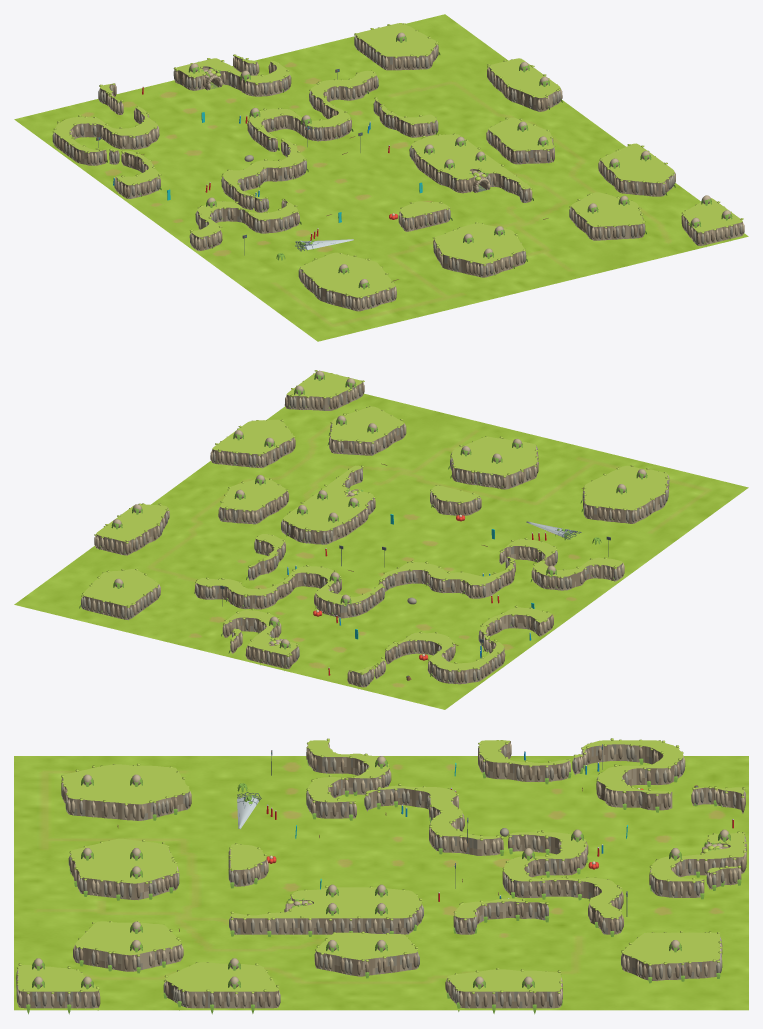
Rendered from terrain-props.glb.
3 renders of one model, top to bottom at view 1: azimuth 30°, elevation 25°; view 2: azimuth 150°, elevation 25°; view 3: azimuth 270°, elevation 25°, orthographic. The views are drawn at different scales.
Parts seen in each view (by area): view 1: hm04_ground_nominal_exact_zero, hm04-fixed-chunk-3-3, hm04-fixed-chunk-4-0, hm04-fixed-chunk-2-0, hm04-fixed-chunk-2-1, hm04-fixed-chunk-0-1, hm04-fixed-chunk-2-4, hm04-fixed-chunk-3-1, hm04-fixed-chunk-1-2, hm04-fixed-chunk-3-2, hm04-fixed-chunk-4-4, hm04-fixed-chunk-0-4 (+18 smaller); view 2: hm04_ground_nominal_exact_zero, hm04-fixed-chunk-2-4, hm04-fixed-chunk-4-0, hm04-fixed-chunk-4-4, hm04-fixed-chunk-3-2, hm04-fixed-chunk-0-4, hm04-fixed-chunk-2-1, hm04-fixed-chunk-3-1, hm04-fixed-chunk-2-0, hm04-fixed-chunk-1-2, hm04-fixed-chunk-0-1, hm04-fixed-chunk-0-0 (+16 smaller); view 3: hm04_ground_nominal_exact_zero, hm04-fixed-chunk-3-3, hm04-fixed-chunk-3-1, hm04-fixed-chunk-4-0, hm04-fixed-chunk-2-1, hm04-fixed-chunk-3-2, hm04-fixed-chunk-4-4, hm04-fixed-chunk-0-1, hm04-fixed-chunk-1-4, hm04-fixed-chunk-2-0, hm04-fixed-chunk-5-5, hm04-fixed-chunk-2-4 (+21 smaller).
Boxes of the visible parts, x1,y1,x2,y2 form: hm04_ground_nominal_exact_zero: (14, 14, 748, 341); hm04-fixed-chunk-3-3: (419, 149, 533, 202); hm04-fixed-chunk-4-0: (354, 23, 438, 70); hm04-fixed-chunk-2-0: (173, 54, 289, 96); hm04-fixed-chunk-2-1: (239, 107, 350, 157); hm04-fixed-chunk-0-1: (70, 122, 159, 197); hm04-fixed-chunk-2-4: (433, 222, 521, 272); hm04-fixed-chunk-3-1: (309, 70, 398, 138); hm04-fixed-chunk-1-2: (221, 155, 304, 212); hm04-fixed-chunk-3-2: (388, 114, 480, 175); hm04-fixed-chunk-4-4: (569, 170, 643, 240); hm04-fixed-chunk-0-4: (298, 255, 385, 304); hm04_ground_nominal_exact_zero: (14, 393, 748, 709); hm04-fixed-chunk-2-4: (452, 440, 538, 489); hm04-fixed-chunk-4-0: (79, 569, 160, 620); hm04-fixed-chunk-4-4: (279, 409, 406, 458); hm04-fixed-chunk-3-2: (254, 502, 356, 561); hm04-fixed-chunk-0-4: (588, 474, 668, 523); hm04-fixed-chunk-2-1: (298, 566, 388, 625); hm04-fixed-chunk-3-1: (194, 549, 313, 609); hm04-fixed-chunk-2-0: (228, 610, 299, 668); hm04-fixed-chunk-1-2: (404, 556, 515, 598); hm04-fixed-chunk-0-1: (410, 606, 551, 669); hm04-fixed-chunk-0-0: (406, 635, 497, 684); hm04_ground_nominal_exact_zero: (14, 756, 748, 1010); hm04-fixed-chunk-3-3: (229, 879, 358, 936); hm04-fixed-chunk-3-1: (486, 871, 618, 934); hm04-fixed-chunk-4-0: (621, 931, 722, 981); hm04-fixed-chunk-2-1: (485, 829, 603, 890); hm04-fixed-chunk-3-2: (355, 884, 489, 934); hm04-fixed-chunk-4-4: (95, 921, 208, 973); hm04-fixed-chunk-0-1: (485, 738, 620, 800); hm04-fixed-chunk-1-4: (94, 765, 191, 827); hm04-fixed-chunk-2-0: (649, 829, 746, 891); hm04-fixed-chunk-5-5: (16, 958, 95, 1014); hm04-fixed-chunk-2-4: (96, 838, 179, 890).
Bounding box in the file's own units: 64.17 × 5.31 × 78.13.
2 materials, 1 textured.
